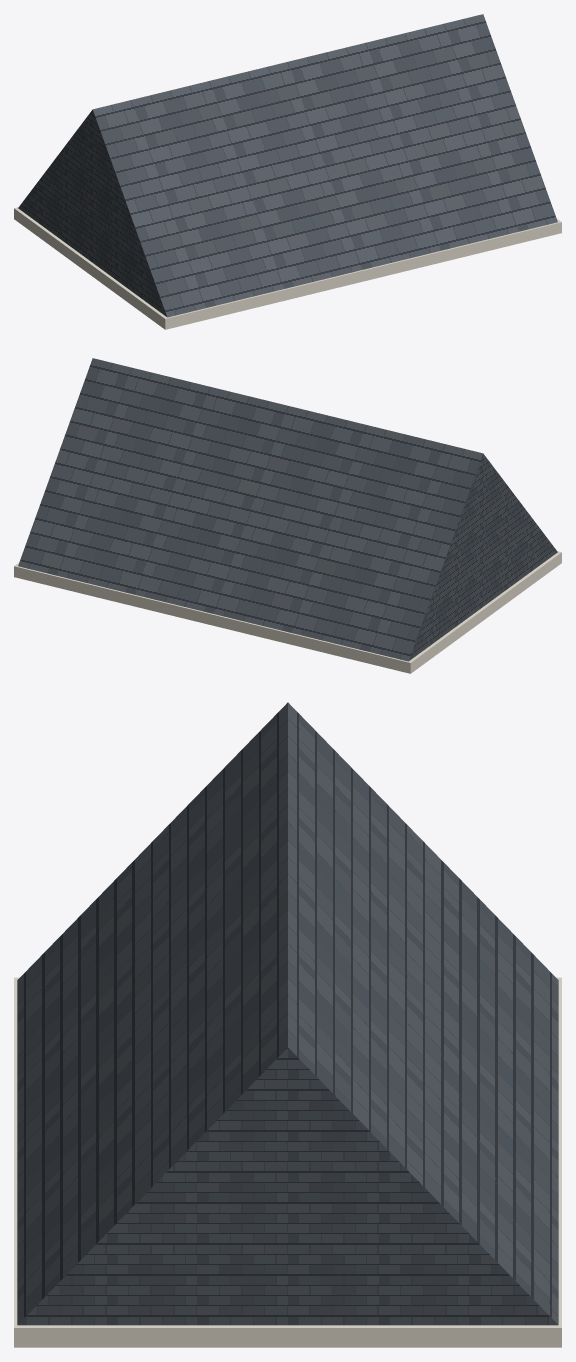
The model's file is roof-pitch-6.obj.
3 views of the same model, one above another, from view 1: azimuth 30°, elevation 25°; view 2: azimuth 150°, elevation 25°; view 3: azimuth 270°, elevation 25° (orthographic). The views are drawn at different scales.
Visible parts, largest first — view 1: part2, part1.nocast; view 2: part2, part1.nocast; view 3: part2, part1.nocast.
Boxes of the visible parts, bbox=[...] form: part2: bbox=[18, 14, 557, 317]; part1.nocast: bbox=[14, 207, 561, 329]; part2: bbox=[18, 358, 557, 661]; part1.nocast: bbox=[14, 551, 561, 673]; part2: bbox=[17, 702, 558, 1325]; part1.nocast: bbox=[14, 977, 561, 1347].
Bounding box in the file's own units: 9.14 × 3.62 × 6.04.
2 materials, 1 textured.
